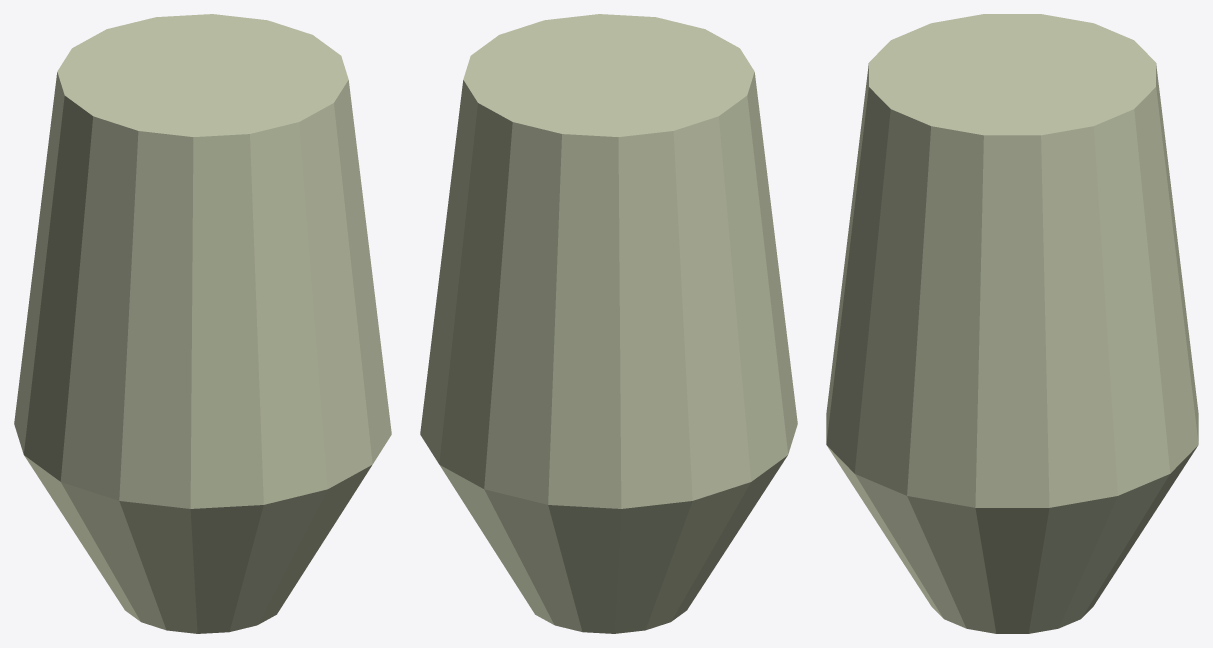
Rendered from LLV_V_Engine_1_Collider1.obj.
3 renders of one model, left to right at view 1: azimuth 30°, elevation 25°; view 2: azimuth 150°, elevation 25°; view 3: azimuth 270°, elevation 25°, orthographic.
Parts seen in each view (by area): view 1: LLV_V_Engine_1_Collider; view 2: LLV_V_Engine_1_Collider; view 3: LLV_V_Engine_1_Collider.
Boxes of the visible parts, box(x1,y1,x2,y2) form: LLV_V_Engine_1_Collider: box(14, 14, 391, 633); LLV_V_Engine_1_Collider: box(420, 14, 797, 633); LLV_V_Engine_1_Collider: box(826, 14, 1198, 633).
Bounding box in the file's own units: 3.24 × 5.04 × 3.24.
